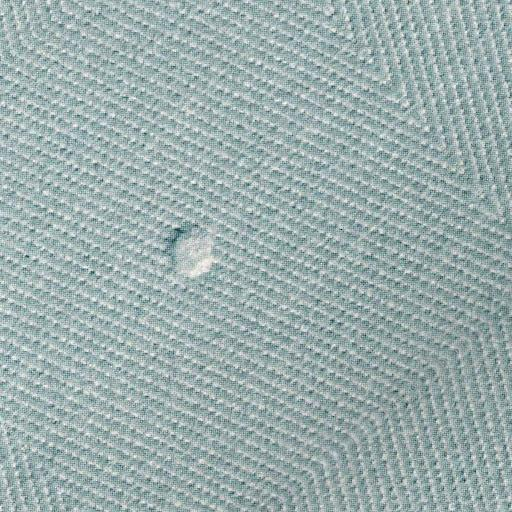knot: (156, 217, 222, 285)
